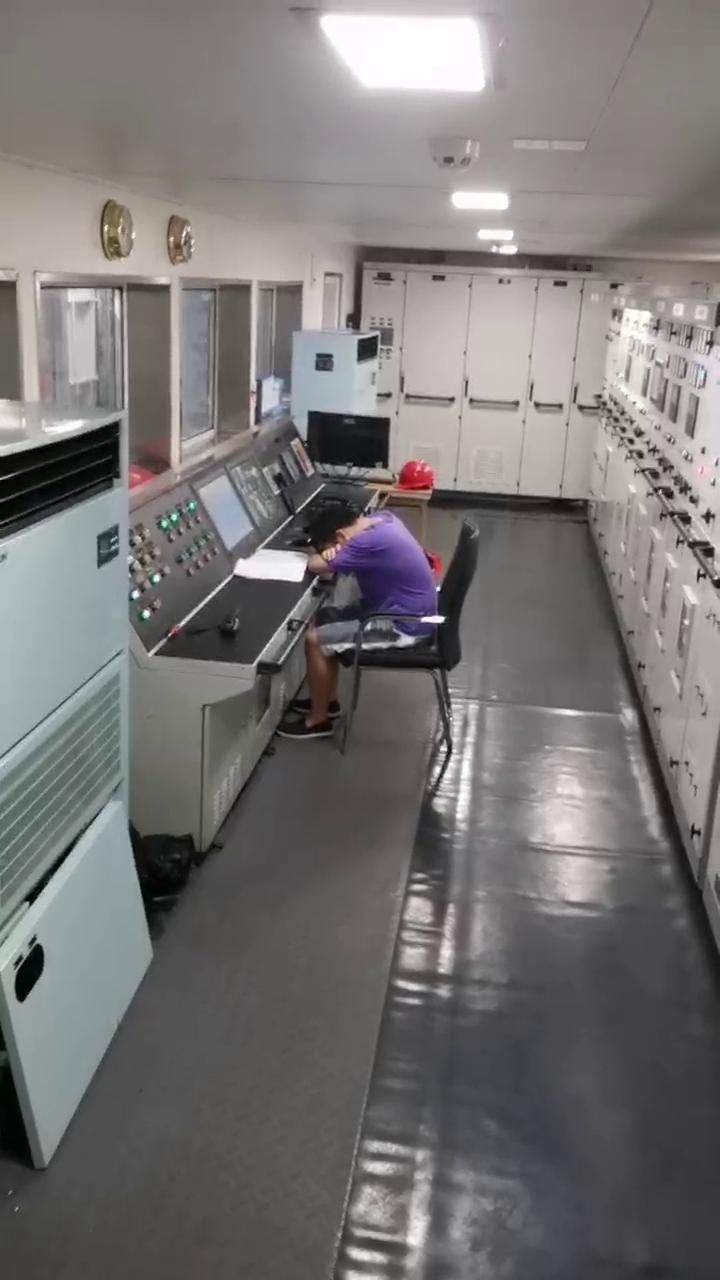sleep: (294, 500, 457, 640)
